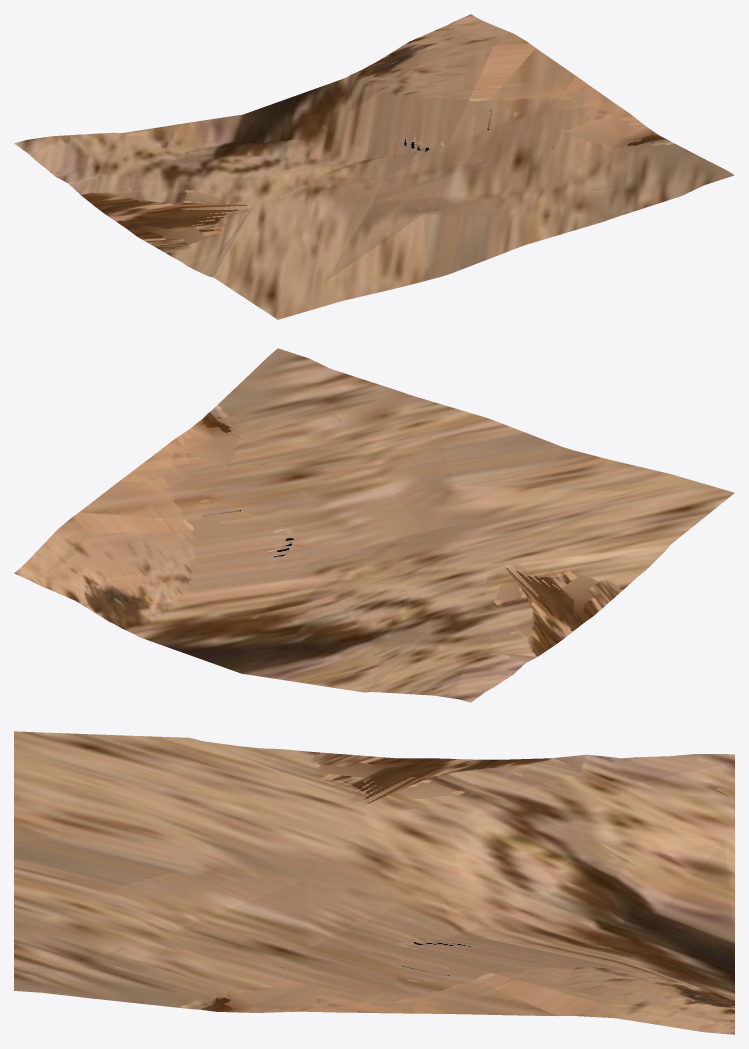
The picture shows the model from 3 angles, top to bottom: view 1: azimuth 30°, elevation 25°; view 2: azimuth 150°, elevation 25°; view 3: azimuth 270°, elevation 25°; orthographic projection. The views are drawn at different scales.
Size of the model in its own units: 1.04 by 0.1678 by 1.04.
3 materials, 3 textured.
